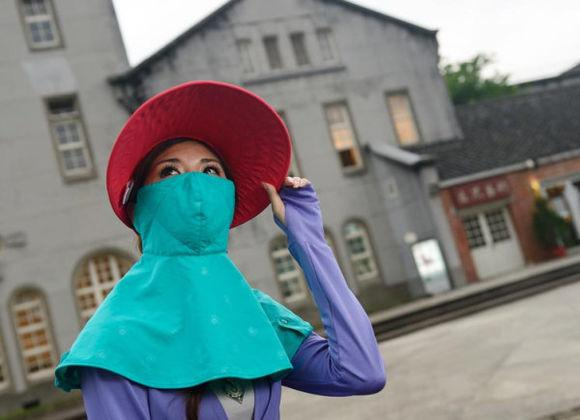OK: (149, 153, 235, 239)
